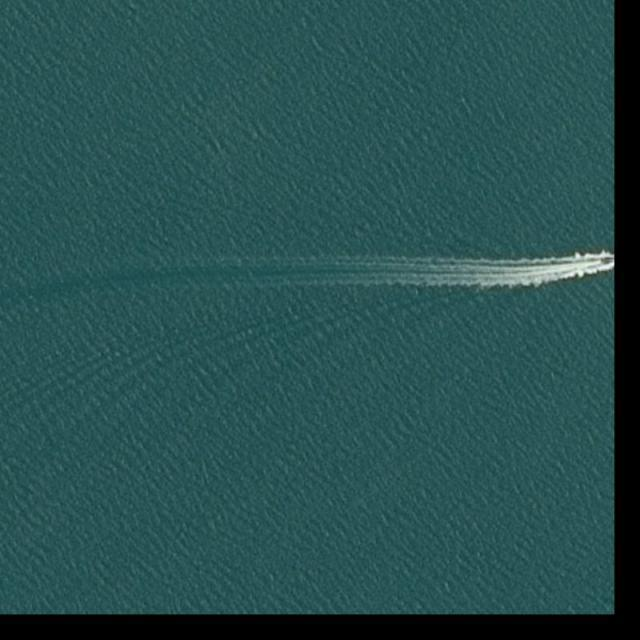ship: (602, 258, 614, 263)
